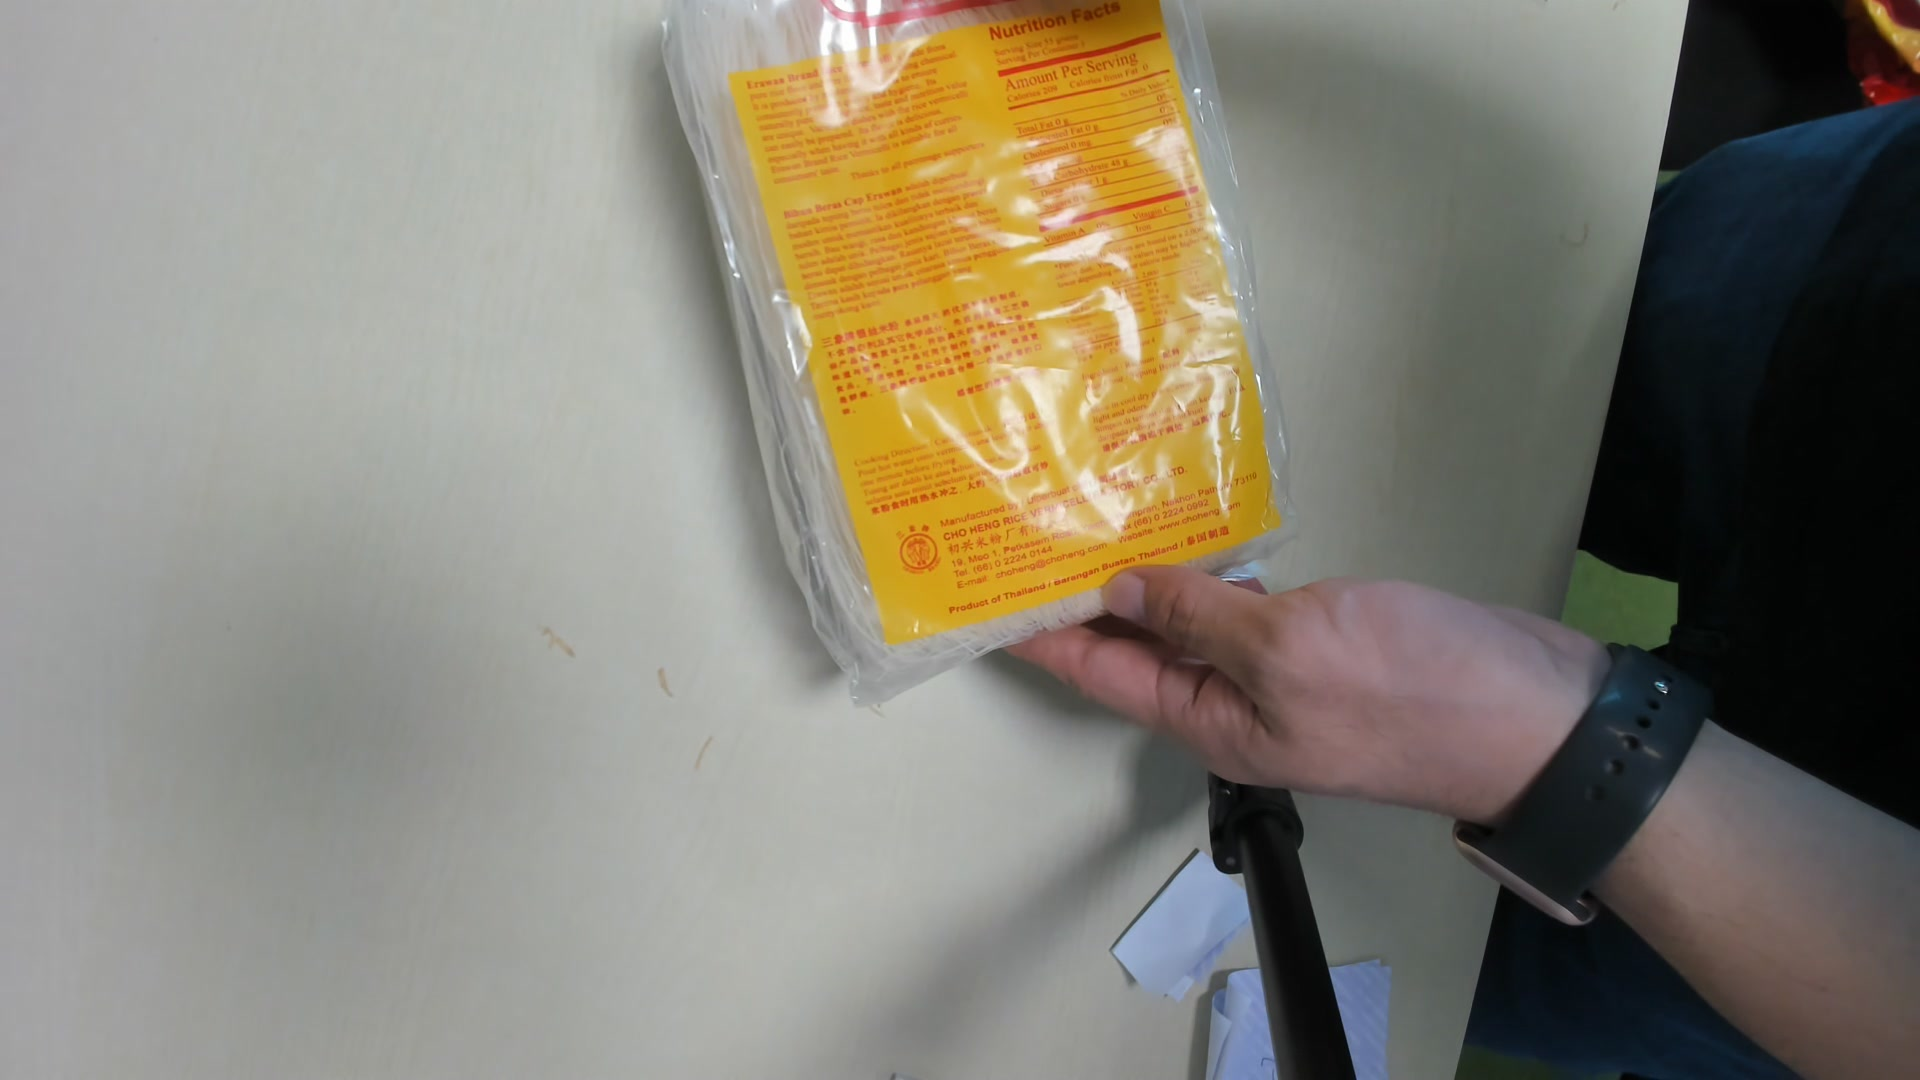BeeHoonVermicelli_500-599g_Halal_NonHealthy: (665, 5, 1303, 703)
